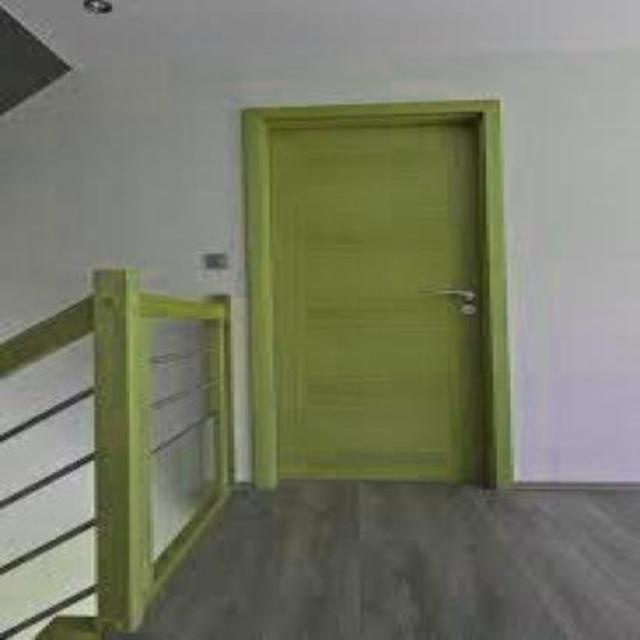door: (254, 107, 487, 487)
